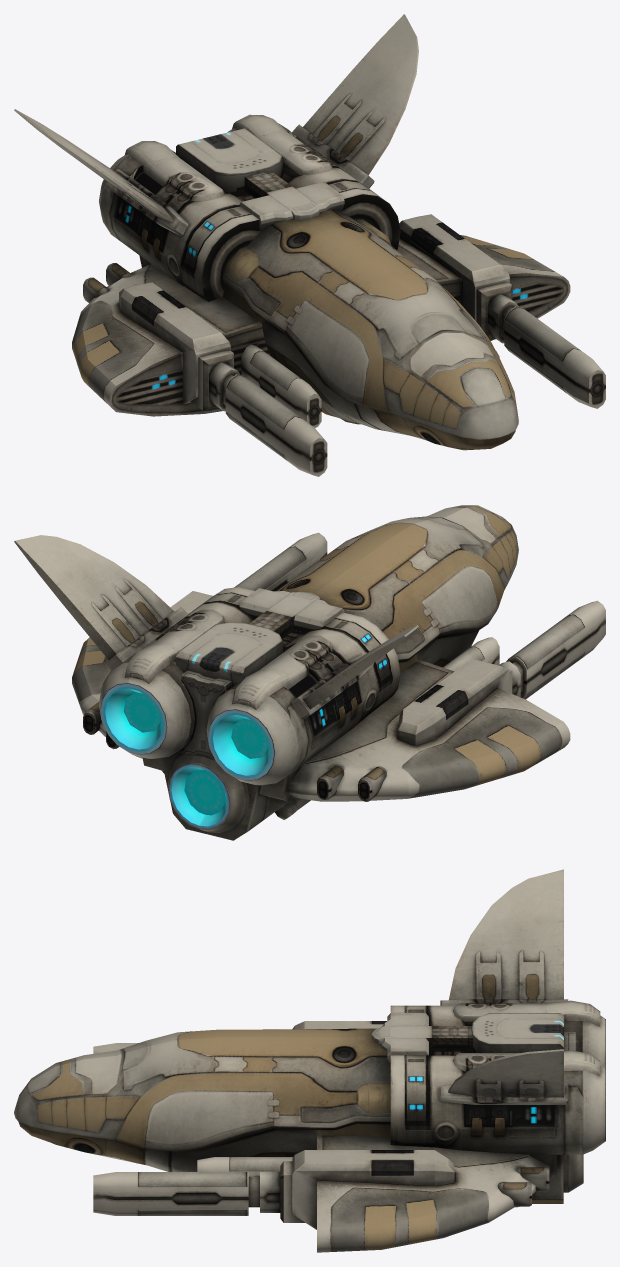
Rendered from 28264_lite.glb.
3 views of the same model, one above another, from view 1: azimuth 30°, elevation 25°; view 2: azimuth 150°, elevation 25°; view 3: azimuth 270°, elevation 25° (orthographic). The views are drawn at different scales.
Visible parts, largest first — view 1: ship; view 2: ship; view 3: ship.
Boxes of the visible parts, x1,y1,x2,y2 form: ship: (14,14,605,476); ship: (14,505,605,840); ship: (14,869,605,1252).
Bounding box in the file's own units: 0.0553 × 0.0283 × 0.0649.
1 material, 1 textured.
